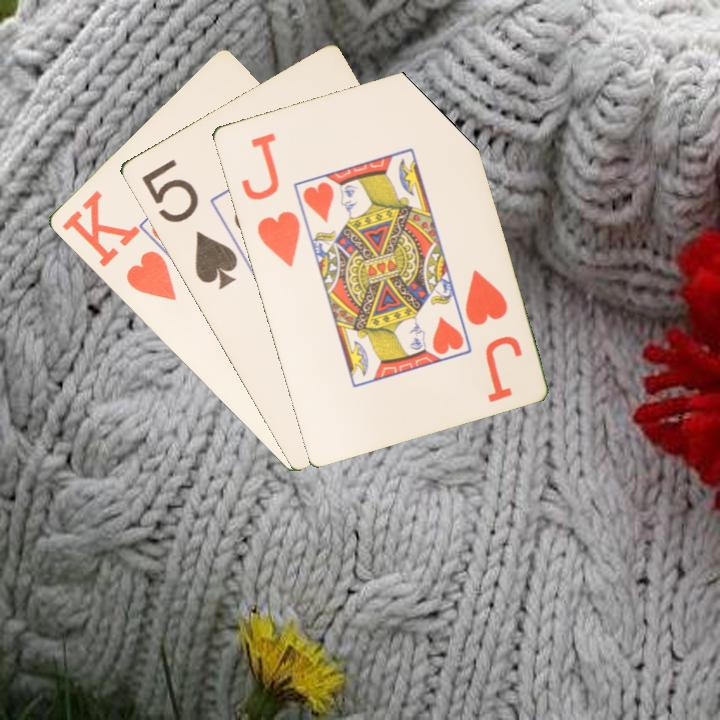5s: (137, 155, 241, 293)
Jh: (237, 128, 303, 270), (460, 265, 510, 328)
Kh: (57, 186, 179, 304)
